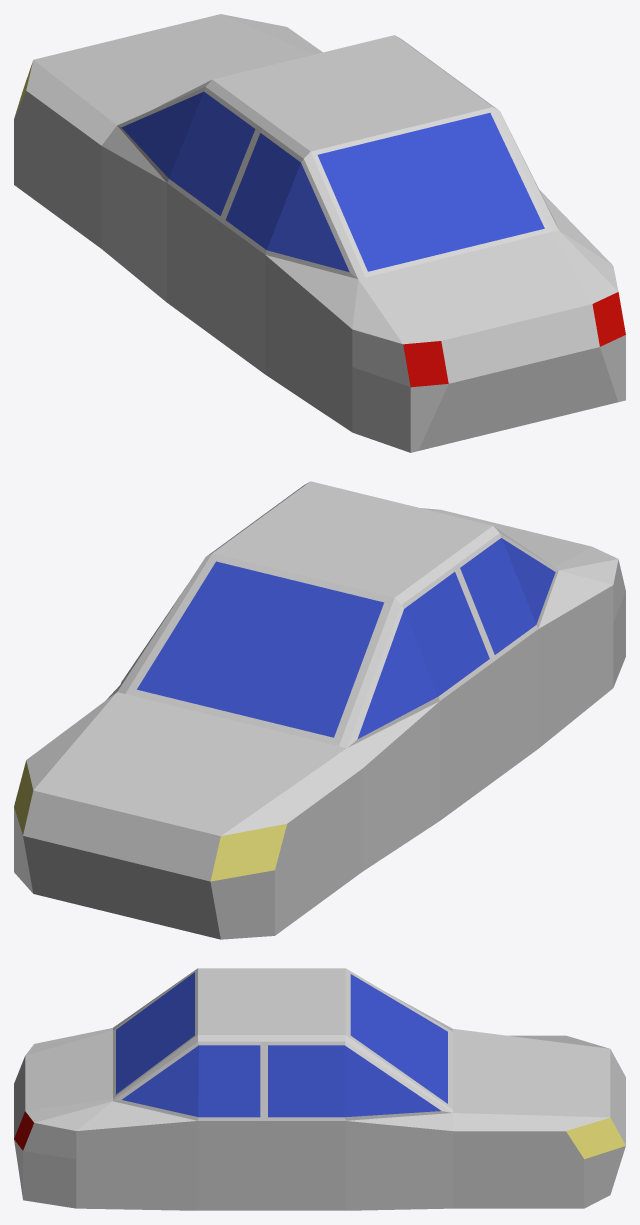
File: Long_Car.fbx
3 renders of one model, top to bottom at view 1: azimuth 30°, elevation 25°; view 2: azimuth 150°, elevation 25°; view 3: azimuth 270°, elevation 25°, orthographic. The views are drawn at different scales.
Visible parts, largest first — view 1: Cube; view 2: Cube; view 3: Cube.
Part boxes in pixels (bbox=[...]): Cube: bbox=[14, 14, 625, 452]; Cube: bbox=[14, 481, 625, 939]; Cube: bbox=[14, 968, 625, 1210].
Size of the model in its own units: 181 by 468 by 134.
